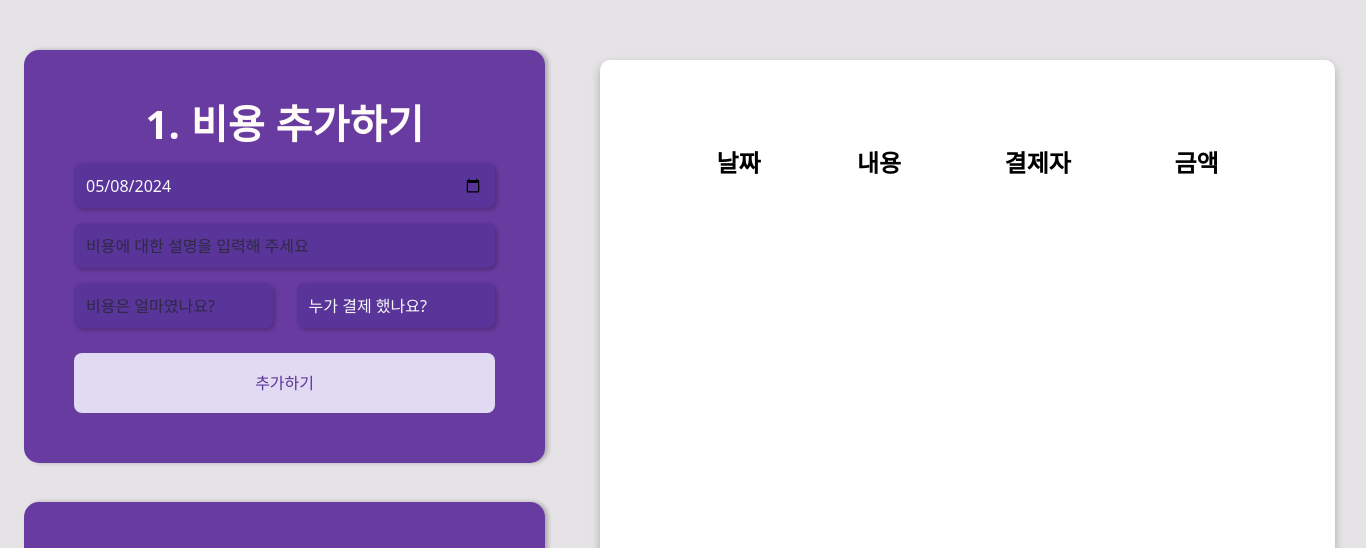
it: 비용 정산 메인 페이지 › 새로운 비용이 입력 되었을 때, › 정산 결과 또한 업데이트가 된다.
In the date field with placeholder "결제한 날짜를 선택해 주세요": (285, 186) [74,163,495,208], type "2024-05-02"
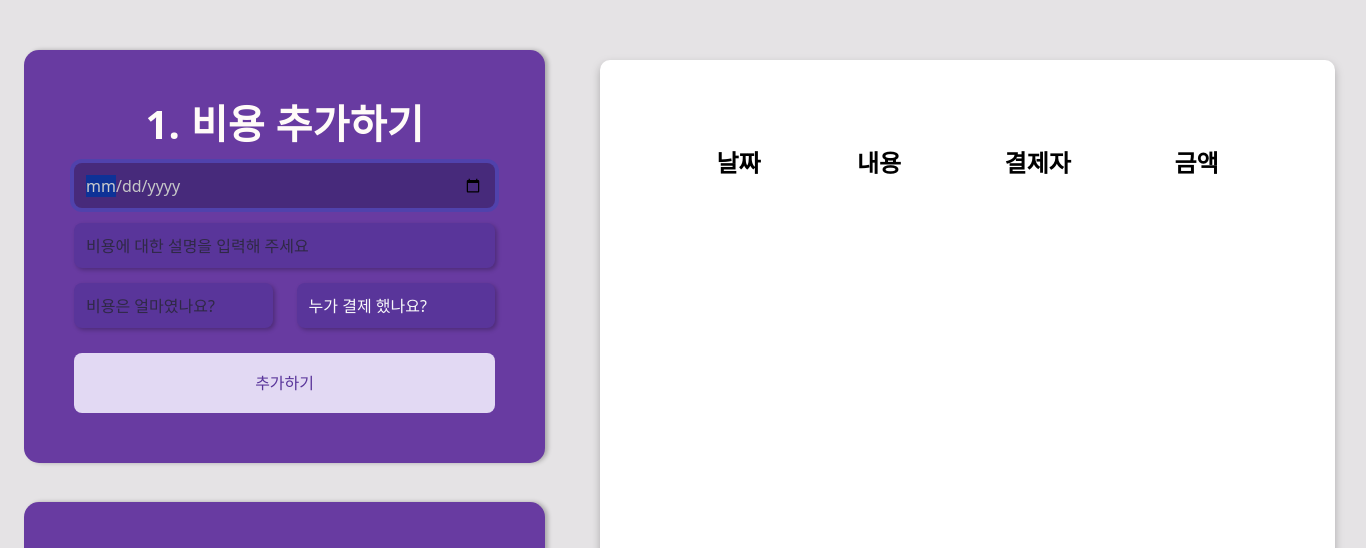
In the field with placeholder "비용에 대한 설명을 입력해 주세요": (285, 246) [74,223,495,268], type "장보기"
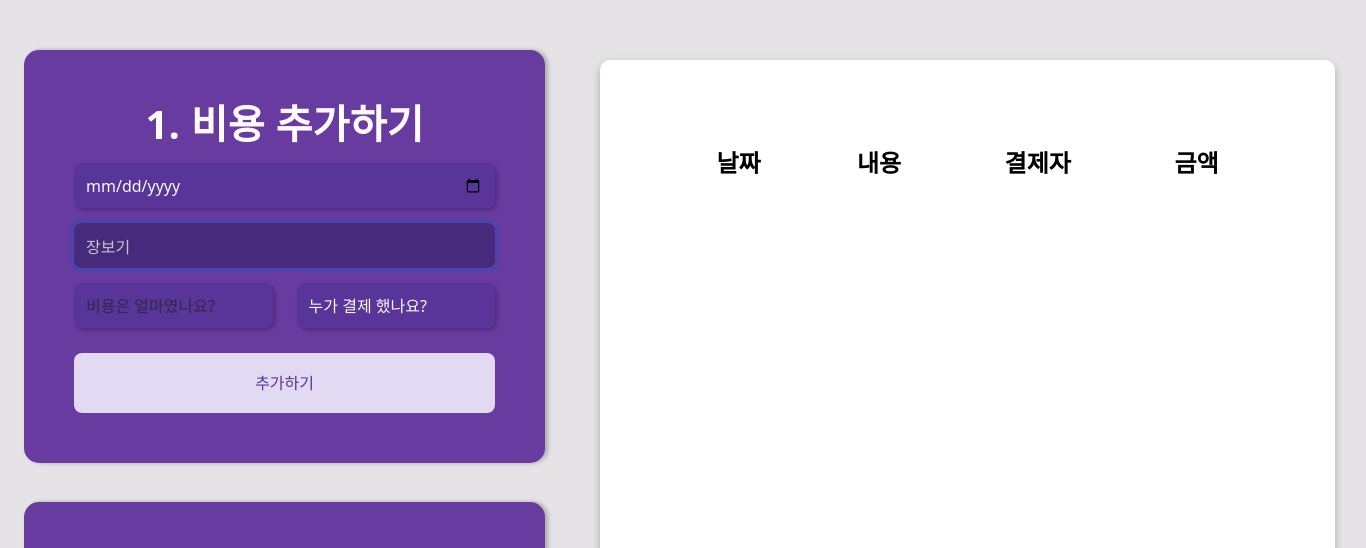
In the number field with placeholder "비용은 얼마였나요?": (173, 306) [74,283,273,328], type "30000"
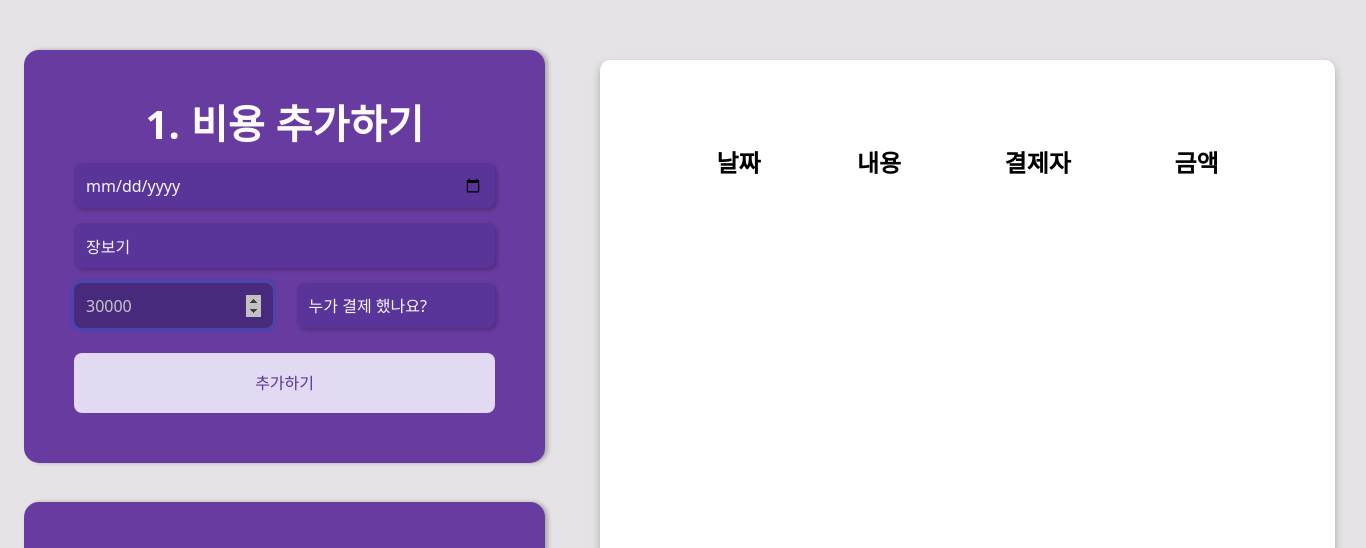
Select "영수" in the dropdown showing "누가 결제": (396, 306) [297,283,495,328]
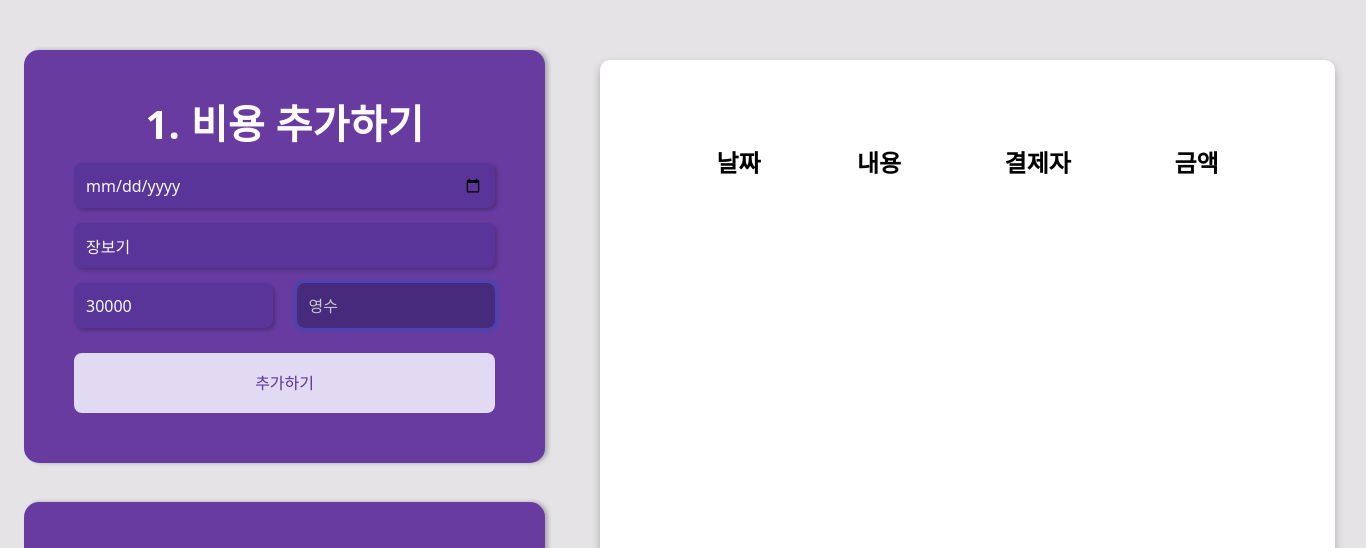
Click the button "추가하기": (285, 383) [74,353,495,413]
(page scrolled)
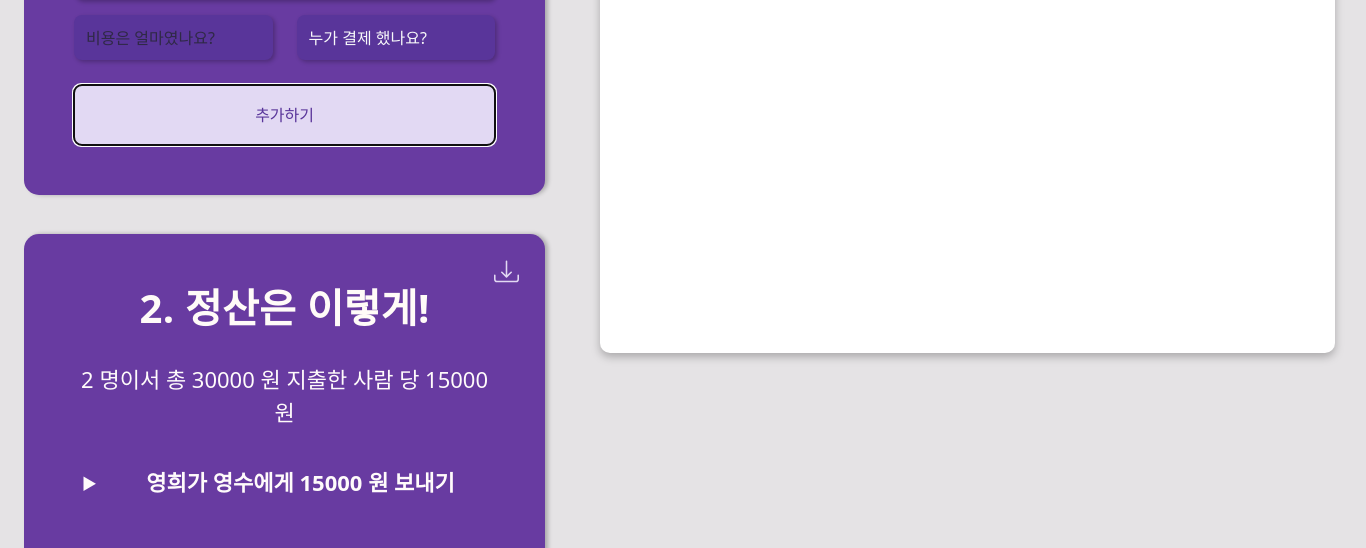
Check: the text "2 명이서 총 30000 원 지출" is shown, box [81,364,327,394]
Check: the text "원 보내기" is shown, box [368,467,455,497]
